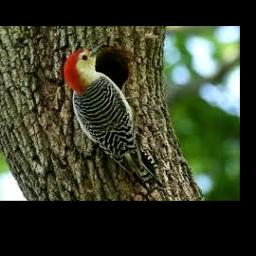Woodpecker: (64, 43, 167, 196)
